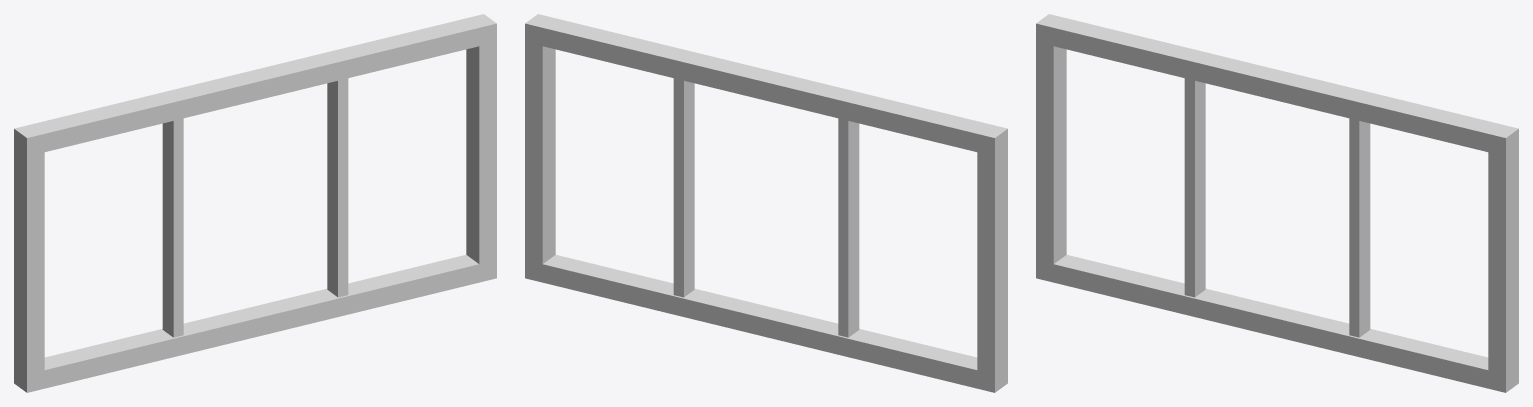
Rendered from Window3_02_2.fbx.
The picture shows the model from 3 angles, left to right: view 1: azimuth 30°, elevation 25°; view 2: azimuth 150°, elevation 25°; view 3: azimuth 330°, elevation 25°; orthographic projection.
Visible parts, largest first — view 1: Window3_02_2; view 2: Window3_02_2; view 3: Window3_02_2.
Boxes of the visible parts, x1,y1,x2,y2 form: Window3_02_2: (14, 14, 496, 392); Window3_02_2: (525, 14, 1007, 392); Window3_02_2: (1036, 14, 1518, 392).
Bounding box in the file's own units: 120 × 62.21 × 5.76.
